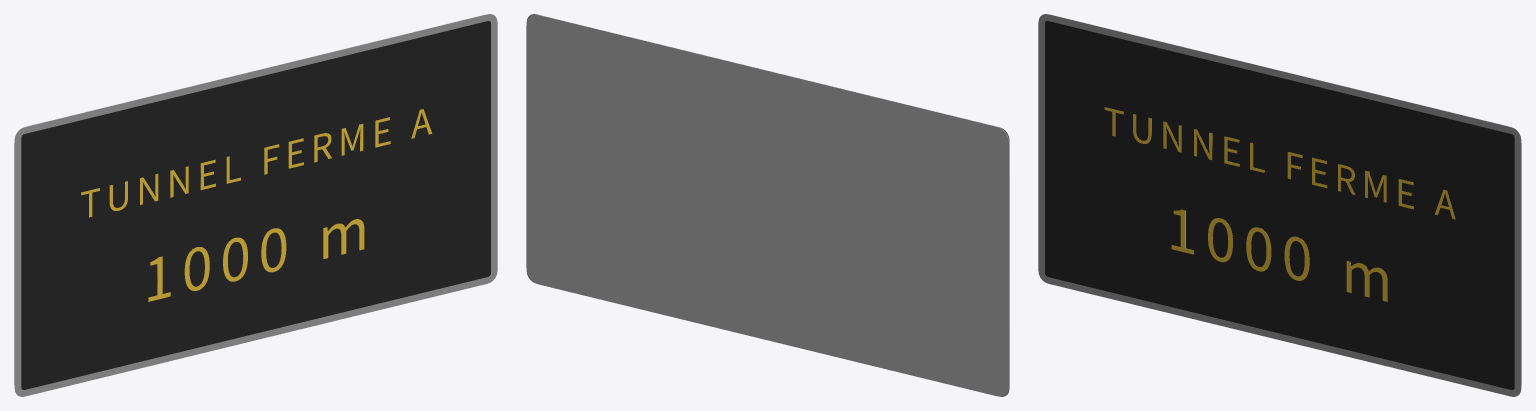
The model's file is MSG_TUNNEL_FERME_A_xxxx_m.glb.
3 views of the same model, side by side, from view 1: azimuth 30°, elevation 25°; view 2: azimuth 150°, elevation 25°; view 3: azimuth 330°, elevation 25° (orthographic).
Parts seen in each view (by area): view 1: MSG_TUNNEL_FERME_A_xxxx_m_fond01, MSG_TUNNEL_FERME_A_xxxx_m_cadre00, MSG_TUNNEL_FERME_A_xxxx_m_txt02, MSG_TUNNEL_FERME_A_xxxx_m_txt03, MSG_TUNNEL_FERME_A_xxxx_m_dos; view 2: MSG_TUNNEL_FERME_A_xxxx_m_dos; view 3: MSG_TUNNEL_FERME_A_xxxx_m_fond01, MSG_TUNNEL_FERME_A_xxxx_m_cadre00, MSG_TUNNEL_FERME_A_xxxx_m_txt02, MSG_TUNNEL_FERME_A_xxxx_m_txt03, MSG_TUNNEL_FERME_A_xxxx_m_dos.
Part boxes in pixels (x1,y1,x2,y2): MSG_TUNNEL_FERME_A_xxxx_m_fond01: (21,21,490,389); MSG_TUNNEL_FERME_A_xxxx_m_cadre00: (14,14,497,396); MSG_TUNNEL_FERME_A_xxxx_m_txt02: (81,109,432,217); MSG_TUNNEL_FERME_A_xxxx_m_txt03: (148,219,364,301); MSG_TUNNEL_FERME_A_xxxx_m_dos: (14,14,484,384); MSG_TUNNEL_FERME_A_xxxx_m_dos: (526,14,1009,396); MSG_TUNNEL_FERME_A_xxxx_m_fond01: (1045,21,1514,389); MSG_TUNNEL_FERME_A_xxxx_m_cadre00: (1038,14,1521,396); MSG_TUNNEL_FERME_A_xxxx_m_txt02: (1104,107,1455,219); MSG_TUNNEL_FERME_A_xxxx_m_txt03: (1171,209,1387,301); MSG_TUNNEL_FERME_A_xxxx_m_dos: (1051,14,1521,384).
Bounding box in the file's own units: 1.5 × 0.8 × 0.0029.
